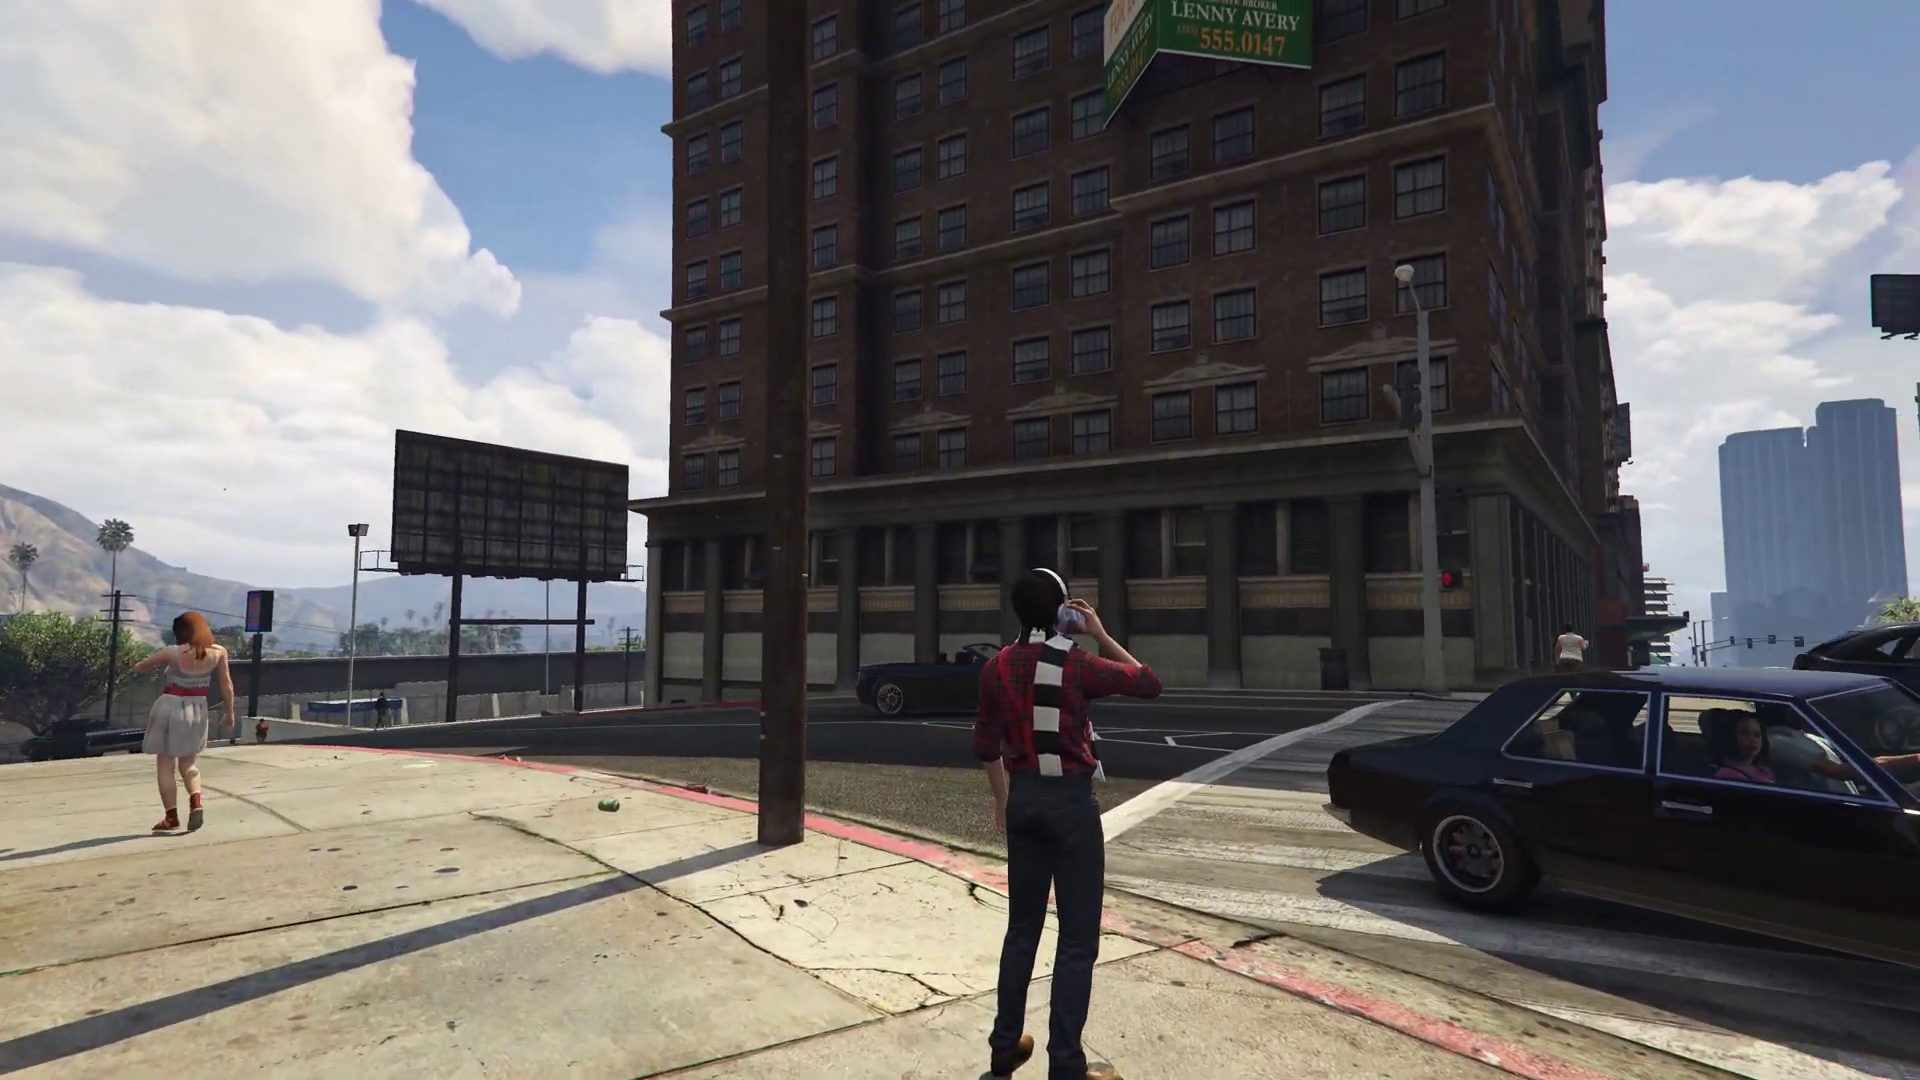car: (1328, 660, 1920, 994), (854, 643, 999, 713), (1798, 623, 1919, 693)
person: (977, 561, 1162, 1080), (135, 612, 245, 835), (1769, 702, 1919, 790), (1715, 712, 1783, 789), (1553, 624, 1591, 673), (373, 691, 390, 730), (254, 718, 270, 743)
traffic light: (1399, 361, 1419, 430), (1440, 565, 1463, 592)
